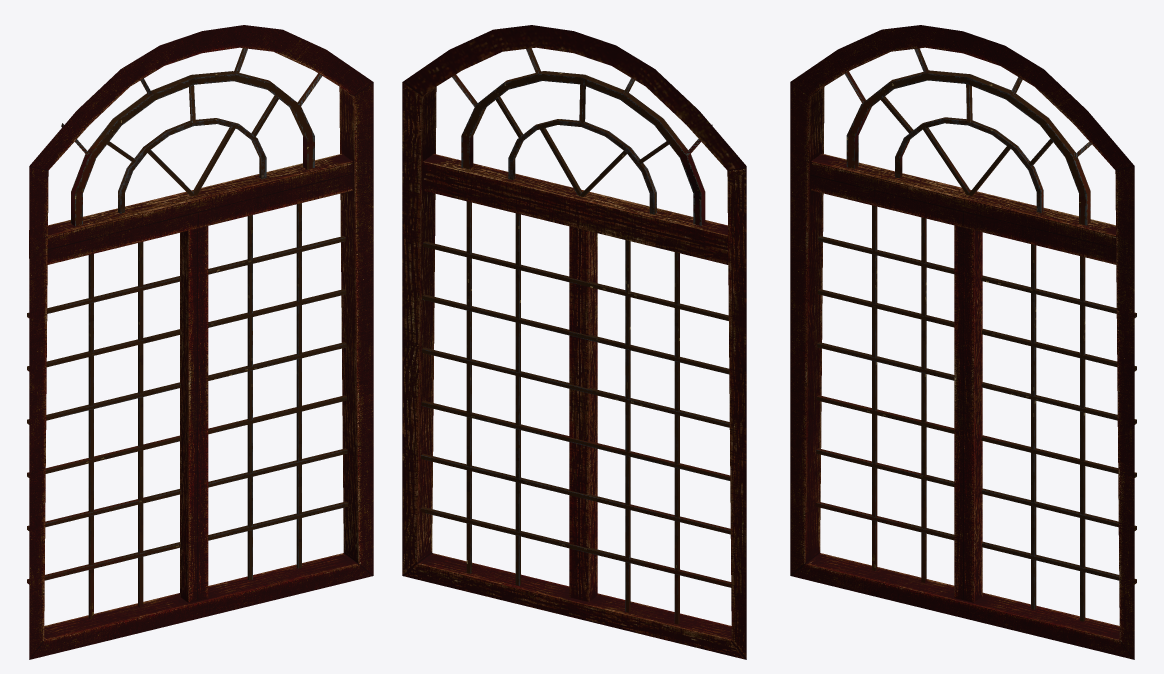
The picture shows the model from 3 angles, left to right: view 1: azimuth 30°, elevation 25°; view 2: azimuth 150°, elevation 25°; view 3: azimuth 330°, elevation 25°; orthographic projection.
Visible parts, largest first — view 1: win, Object009_Material #48_0; view 2: win, Object009_Material #48_0; view 3: win, Object009_Material #48_0.
Part boxes in pixels (x1,y1,x2,y2): win: (29, 25, 373, 659); Object009_Material #48_0: (27, 48, 348, 619); win: (402, 25, 746, 659); Object009_Material #48_0: (420, 48, 731, 624); win: (790, 25, 1134, 659); Object009_Material #48_0: (815, 48, 1136, 621).
Size of the model in its own units: 1300 by 2117 by 98.19.
Materials: 2 (2 with a texture image).
